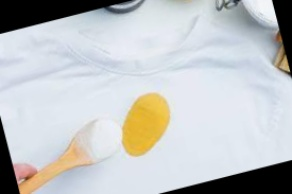mustard: (123, 88, 178, 155), (120, 115, 146, 160), (122, 130, 150, 153)
